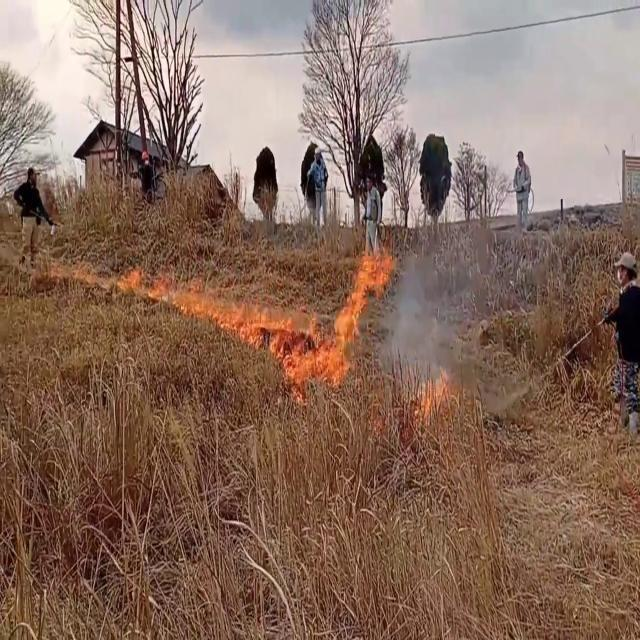Fire: (184, 241, 390, 388), (94, 244, 188, 319)
Smoke: (376, 246, 454, 394)
